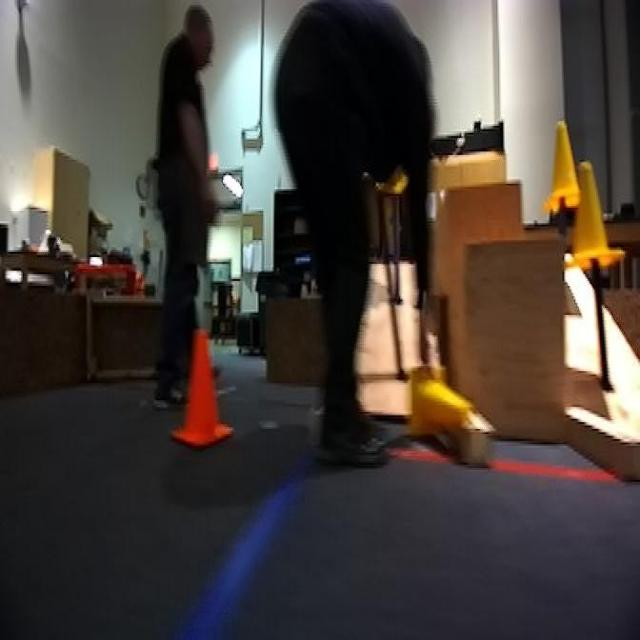frc_cone: (570, 151, 615, 276), (404, 370, 471, 432), (546, 126, 588, 209), (376, 165, 412, 194)
